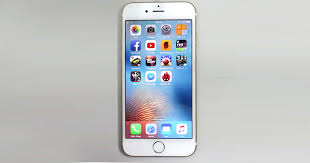iphone: (116, 1, 200, 159)
iphone6: (116, 1, 200, 160)
